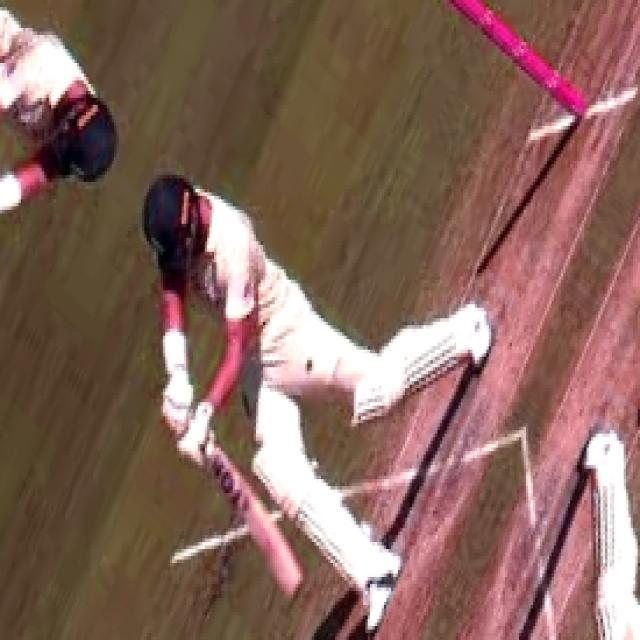bat: (205, 436, 313, 606)
toe: (286, 578, 305, 604)
